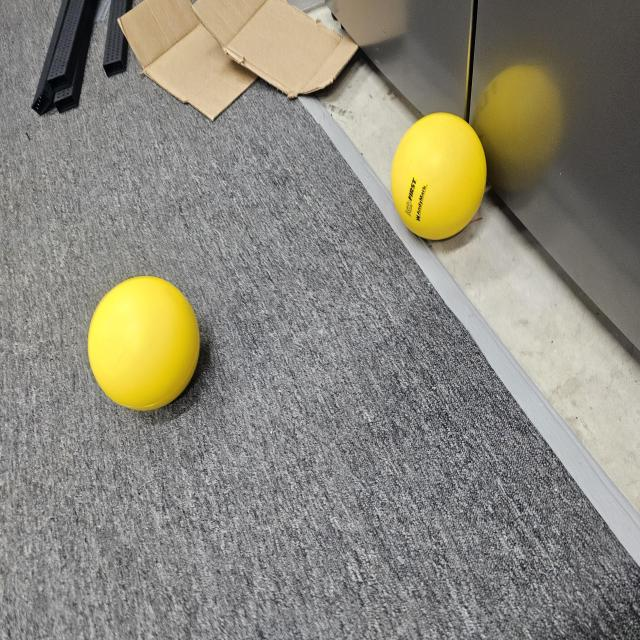Fuel: (84, 270, 204, 415), (386, 101, 492, 246)
